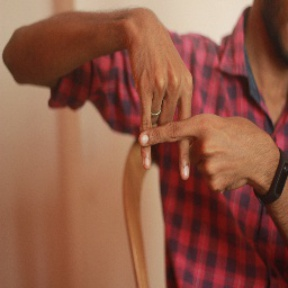H: (120, 72, 225, 199)
